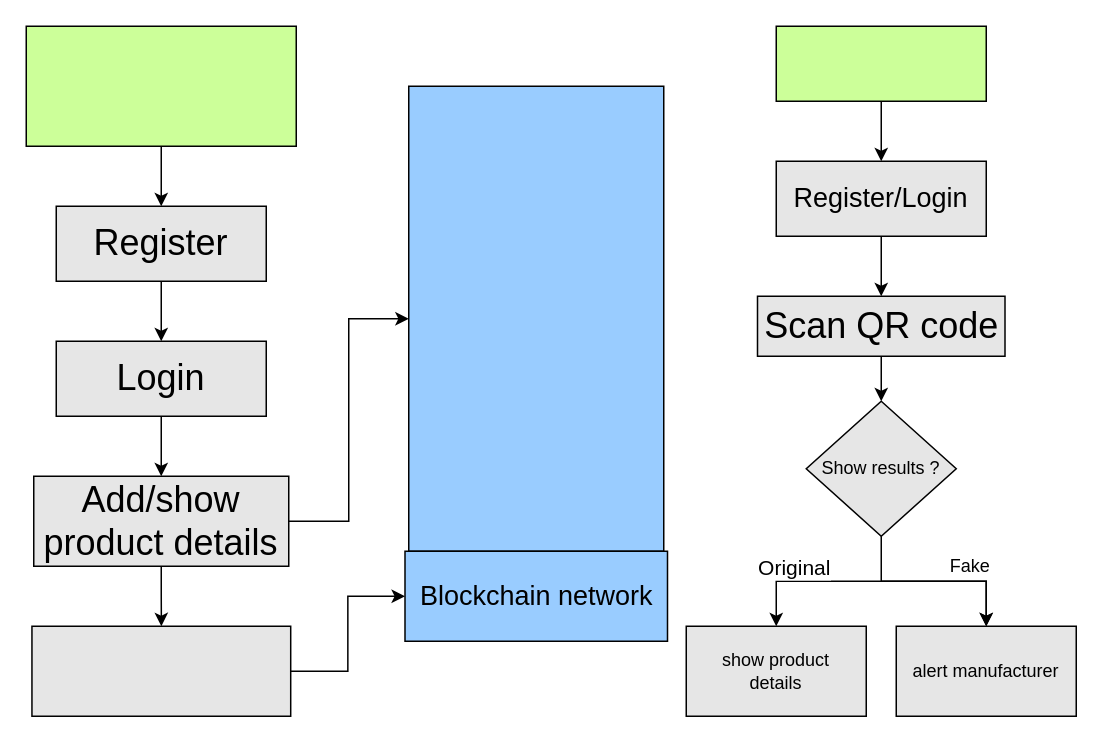
This 1103x743 diagram has some shape labels left out. Each missing label, with the box of its shape:
Customers: (775, 25, 986, 101)
Database: (407, 85, 664, 551)
Generate QR code: (30, 625, 291, 716)
Hafiz Skincare Holdings Sdn Bhd: (25, 25, 296, 146)
